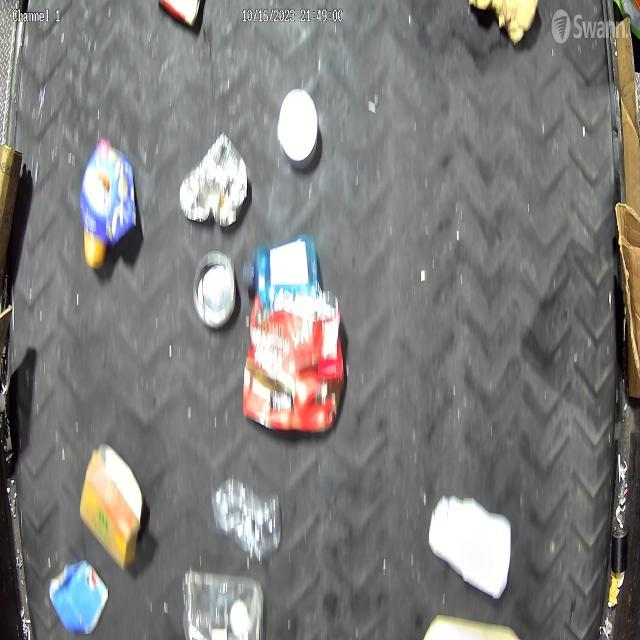can: (179, 132, 249, 228), (192, 250, 238, 330)
non_white_jug: (80, 138, 138, 270)
plastic_bottle: (212, 476, 284, 559)
